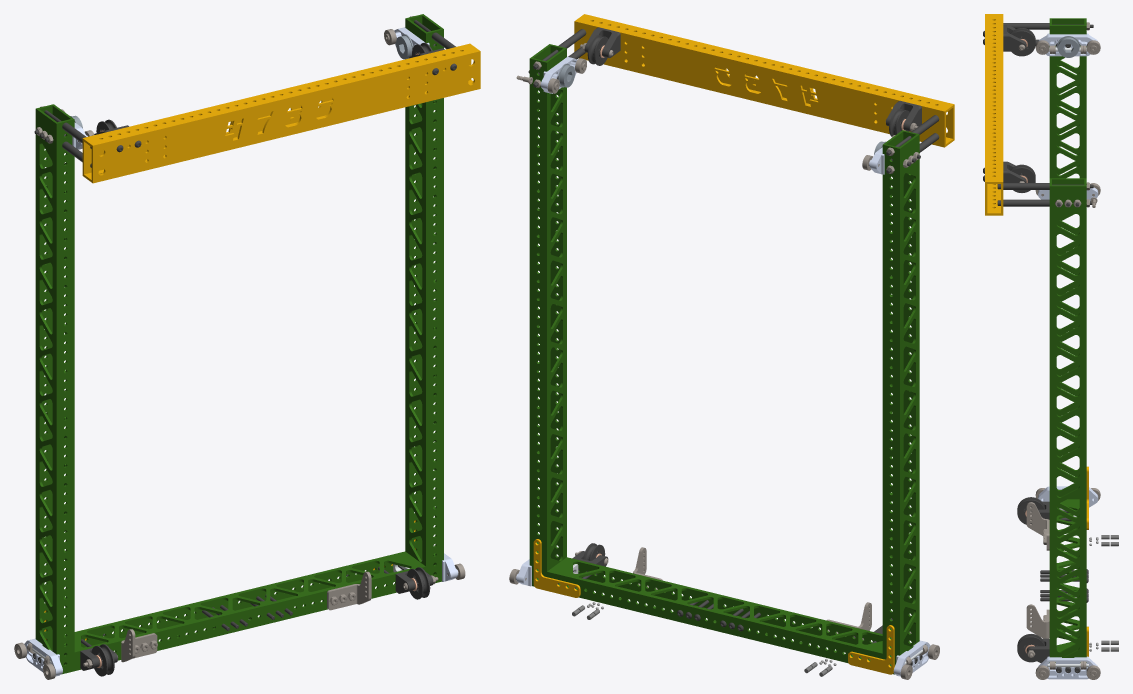
The picture shows the model from 3 angles, left to right: view 1: azimuth 30°, elevation 25°; view 2: azimuth 150°, elevation 25°; view 3: azimuth 270°, elevation 25°; orthographic projection. The views are drawn at different scales.
Visible parts, largest first — view 1: (3) 1st V tube (×2), (3) 1st Upper H tube, (3) 1st H tube, WCP-0583-025 Rev1, WCP-0583-026 Rev1; view 2: (3) 1st V tube (×2), (3) 1st Upper H tube, (3) 1st H tube, Elevator Gusset (×2); view 3: (3) 1st V tube (×2), (3) 1st Upper H tube, WCP-0897-001 Rev1 (×4), (3) 1st H tube, WCP-0096 (×4), Cascade Pulley Block (WCP-0298) (×3), Aluminum Spacers (.196" ID x 3/8" OD x 2" WD) (5-Pack) (WCP- (×3), WCP-0583-025 Rev1, WCP-0583-026 Rev1, .5" Hex ID 1.125" OD Flanged Bearing (217-2734).
Part boxes in pixels (x1,y1,x2,y2): (3) 1st V tube (×2): (35,14,443,674); (3) 1st Upper H tube: (82,43,480,183); (3) 1st H tube: (64,551,425,670); WCP-0583-025 Rev1: (327,571,371,610); WCP-0583-026 Rev1: (121,629,157,662); (3) 1st V tube (×2): (529,44,919,674); (3) 1st Upper H tube: (574,14,954,147); (3) 1st H tube: (547,557,882,663); Elevator Gusset (×2): (533,539,894,674); (3) 1st V tube (×2): (1049,18,1086,662); (3) 1st Upper H tube: (985,14,1003,215); WCP-0897-001 Rev1 (×4): (1038,33,1098,679); (3) 1st H tube: (1056,499,1079,651); WCP-0096 (×4): (1011,31,1044,662); Cascade Pulley Block (WCP-0298) (×3): (1003,25,1049,662); Aluminum Spacers (.196" ID x 3/8" OD x 2" WD) (5-Pack) (WCP- (×3): (1012,23,1049,206); WCP-0583-025 Rev1: (1026,604,1049,638); WCP-0583-026 Rev1: (1026,502,1049,550); .5" Hex ID 1.125" OD Flanged Bearing (217-2734): (1057,36,1079,57).
Size of the model in its own units: 0.586 by 0.7548 by 0.1865.
